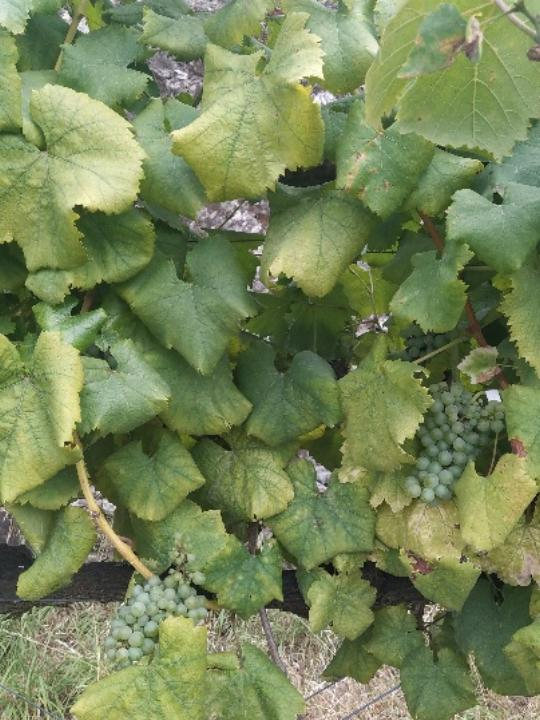grape: (402, 380, 507, 508), (103, 571, 210, 670)
